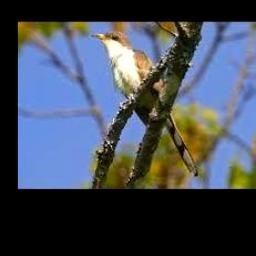Cuckoo: (90, 31, 197, 177)
